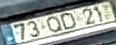1: (92, 4, 104, 22)
2: (80, 7, 97, 26)
3: (25, 19, 40, 37)
7: (12, 22, 25, 41)
D: (57, 12, 76, 31)
Q: (45, 15, 63, 33)
